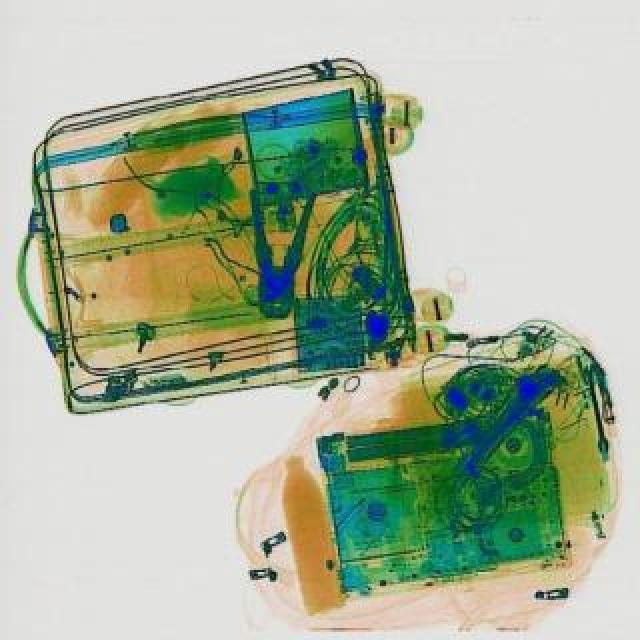wrench: (238, 188, 318, 320)
